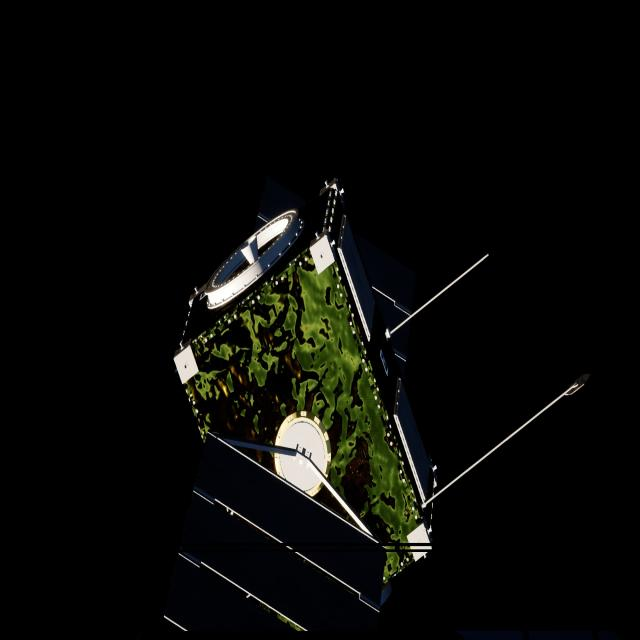satellite: (166, 183, 434, 633)
